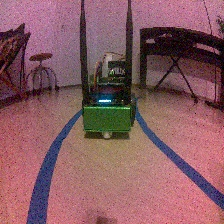rob: (80, 59, 137, 140)
